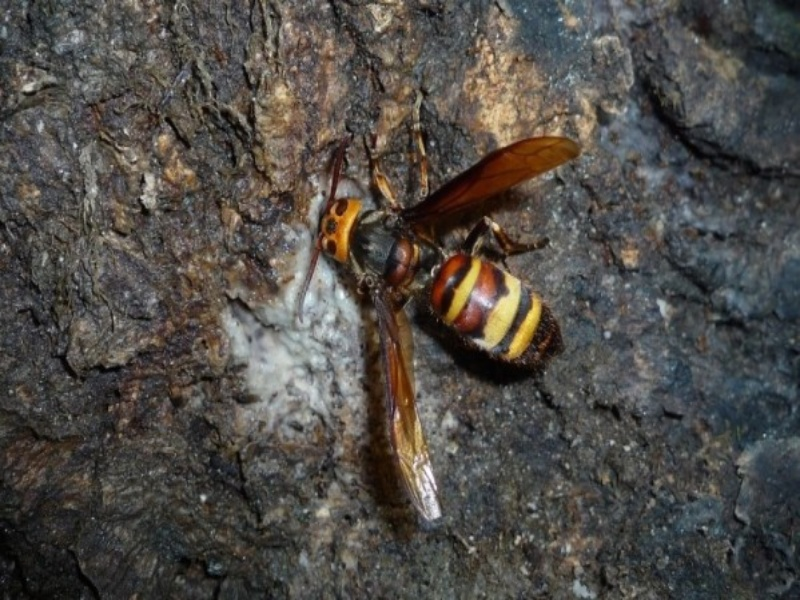asian_giant_hornet: (310, 162, 566, 370)
